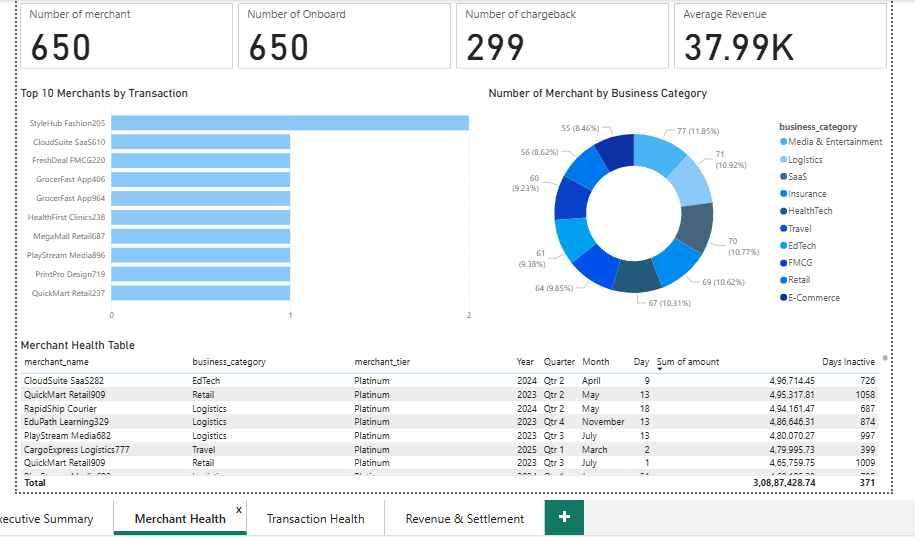

This screenshot's page, from the dashboard's own definition file:
{"tool":"powerbi","page":{"name":"Merchant Health","canvas":[1280,720],"ordinal":1},"visuals":[{"type":"cardVisual","fields":{"Data":["Count(zorvyn dim_merchants.merchant_id)","CountNonNull(zorvyn dim_merchants.onboard_date)","CountNonNull(zorvyn fact_chargebacks.chargeback_id)","Avg(zorvyn fact_transactions.amount)"]},"box":[0,0,1280.5,105.4],"z":0},{"type":"tableEx","title":"Merchant Health Table","fields":{"Values":["zorvyn dim_merchants.merchant_name","zorvyn dim_merchants.business_category","zorvyn dim_merchants.merchant_tier","zorvyn fact_transactions.txn_timestamp.Variation.Date Hierarchy.Year","zorvyn fact_transactions.txn_timestamp.Variation.Date Hierarchy.Quarter","zorvyn fact_transactions.txn_timestamp.Variation.Date Hierarchy.Month","zorvyn fact_transactions.txn_timestamp.Variation.Date Hierarchy.Day","Sum(zorvyn fact_transactions.amount)","zorvyn fact_transactions.Days Inactive"]},"box":[0,495,1280,225],"z":1000},{"type":"clusteredBarChart","title":"Top 10 Merchants by Transaction","fields":{"Category":["zorvyn dim_merchants.merchant_name"],"Y":["CountNonNull(zorvyn fact_transactions.txn_id)"]},"box":[0,125.9,670.2,354.1],"z":2000},{"type":"donutChart","title":"Number of Merchant by Business Category","fields":{"Y":["CountNonNull(zorvyn dim_merchants.merchant_id)"],"Category":["zorvyn dim_merchants.business_category"]},"box":[684.9,125.9,595.6,354.1],"z":3000}]}

Visuals, with their boxes on the page's 1280x720 design canvas (x1, y1, x2, y2). These are canvas units, not pixel positions in the 915x537 screenshot, which may show the page scaled, cropped or inside an application window:
cardVisual - Count(zorvyn dim_merchants.merchant_id) x CountNonNull(zorvyn dim_merchants.onboard_date): region(0, 0, 1280, 105)
"Merchant Health Table" tableEx: region(0, 495, 1280, 720)
"Top 10 Merchants by Transaction" clusteredBarChart: region(0, 126, 670, 480)
"Number of Merchant by Business Category" donutChart: region(685, 126, 1280, 480)
